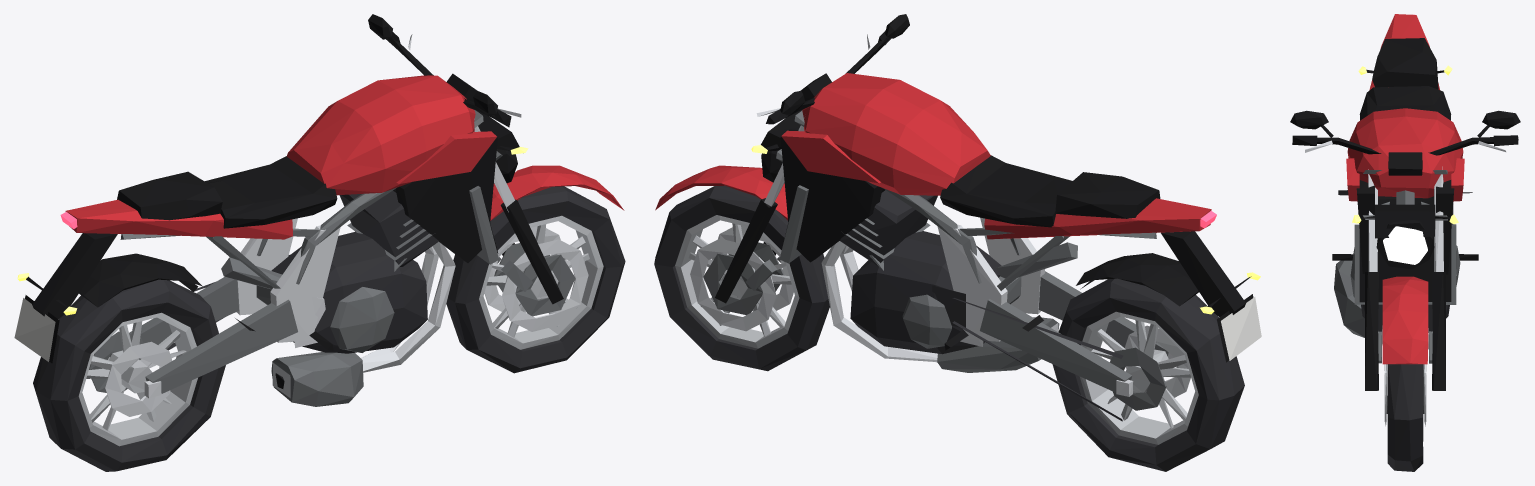
File: yamaha-mt-07.glb
The picture shows the model from 3 angles, left to right: view 1: azimuth 30°, elevation 25°; view 2: azimuth 150°, elevation 25°; view 3: azimuth 270°, elevation 25°; orthographic projection. The views are drawn at different scales.
Visible parts, largest first — view 1: yamaha-mt-07; view 2: yamaha-mt-07; view 3: yamaha-mt-07.
Boxes of the visible parts, x1,y1,x2,y2 form: yamaha-mt-07: (14, 14, 625, 471); yamaha-mt-07: (654, 14, 1261, 471); yamaha-mt-07: (1290, 14, 1520, 471).
Bounding box in the file's own units: 2.04 × 1.1 × 0.7579.
